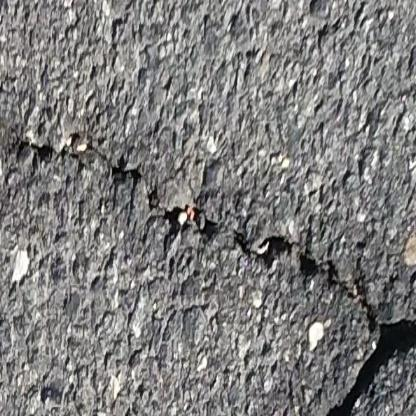Cracks: (27, 135, 330, 281), (309, 318, 416, 416)
